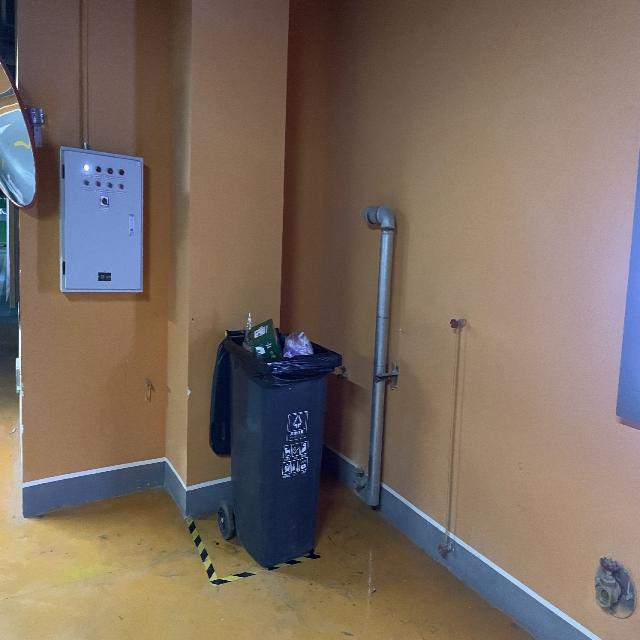overflow: (208, 311, 340, 567)
